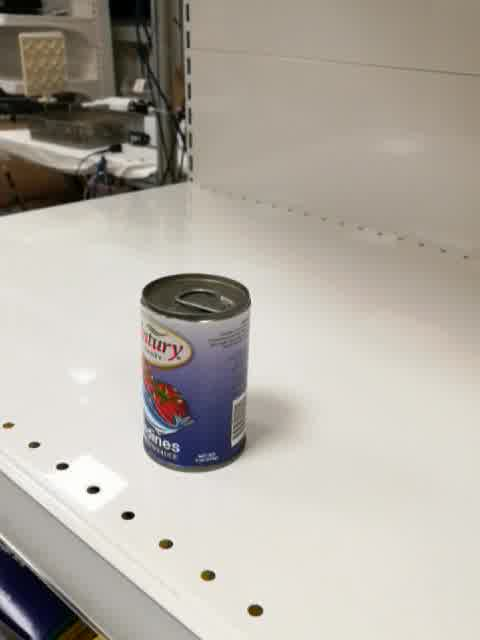sardine: (140, 272, 250, 474)
